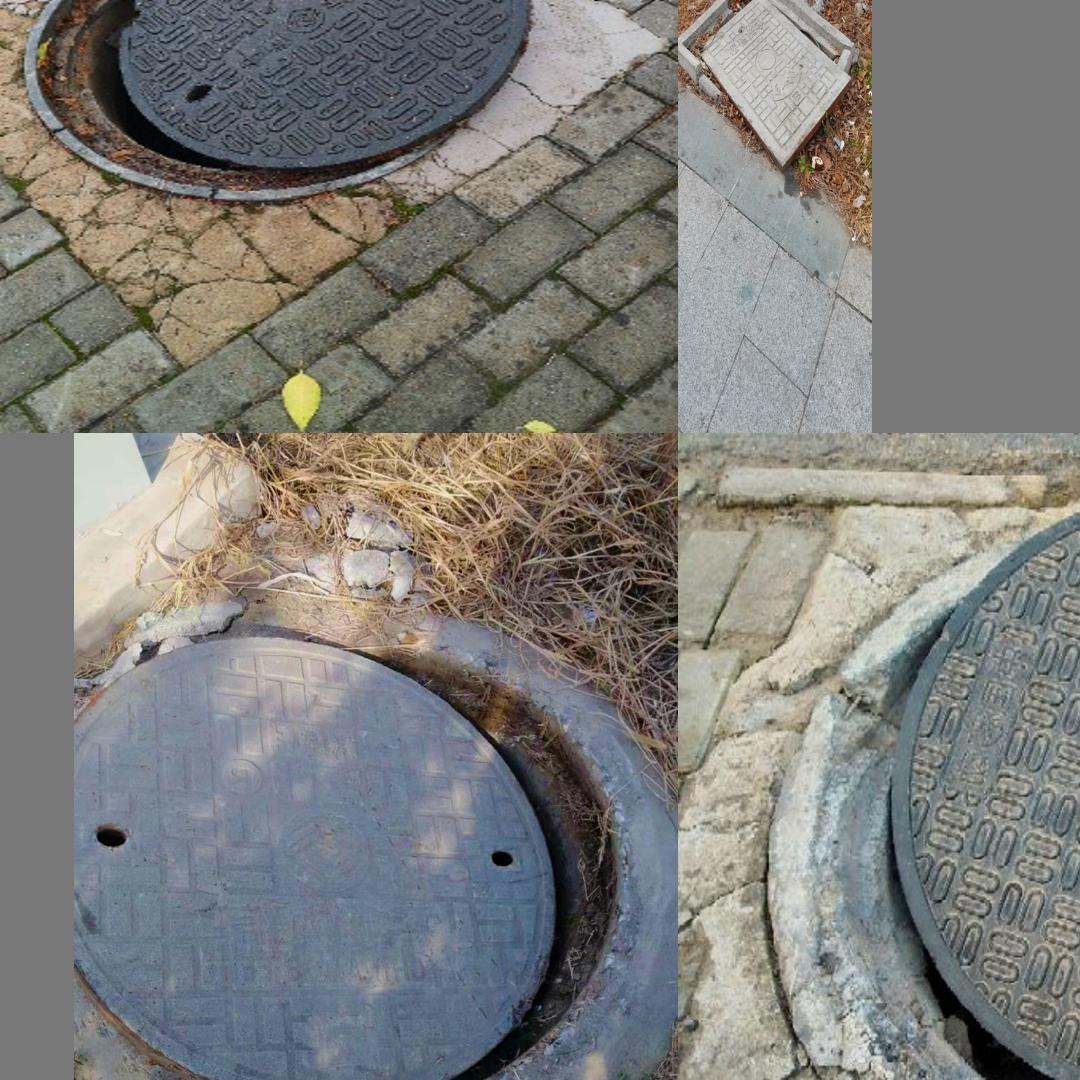uncovered: (76, 627, 636, 1080), (811, 487, 1080, 1080), (23, 0, 533, 202), (679, 0, 855, 165)
